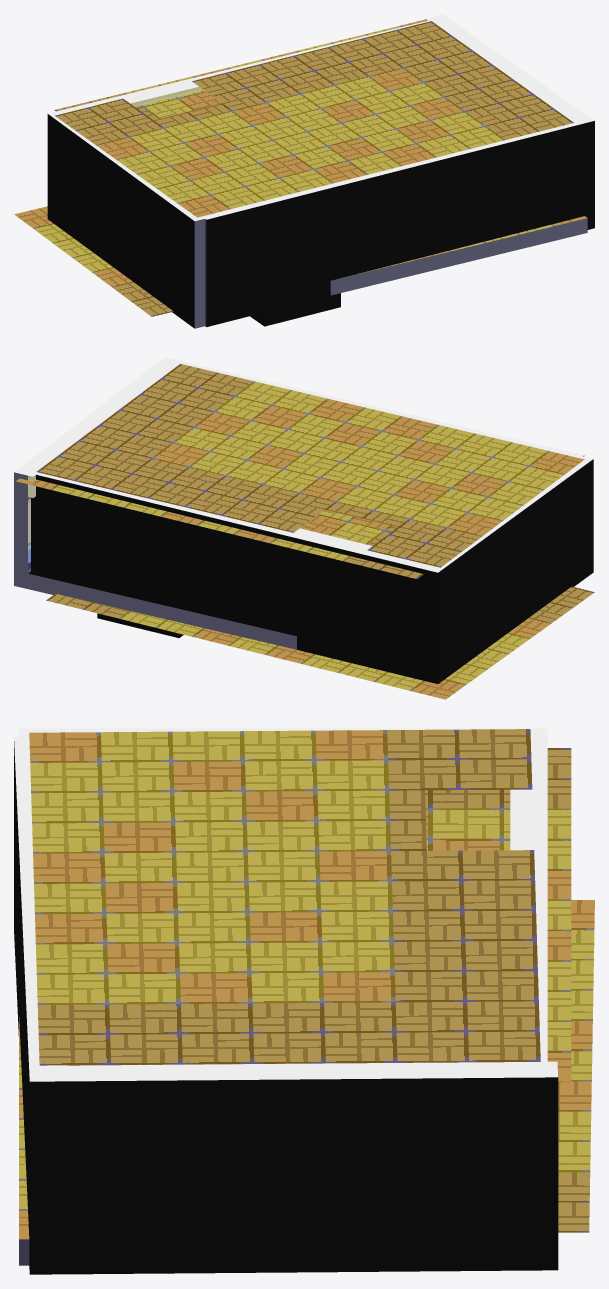
File: pokemonglb.glb
3 views of the same model, one above another, from view 1: azimuth 30°, elevation 25°; view 2: azimuth 150°, elevation 25°; view 3: azimuth 270°, elevation 25° (orthographic). The views are drawn at different scales.
Visible parts, largest first — view 1: tiles_fireRed_material_0.002, base_fireRed_material_0.002, base, tiles_fireRed_material_0.003, tiles_fireRed_material_0.001, tiles; view 2: base, tiles_fireRed_material_0.002, base_fireRed_material_0.002, tiles_fireRed_material_0.003, tiles_fireRed_material_0.001; view 3: tiles_fireRed_material_0.002, base_fireRed_material_0.002, tiles_fireRed_material_0.001, tiles_fireRed_material_0.003, base, tiles.
Part boxes in pixels (x1,y1,x2,y2): tiles_fireRed_material_0.002: [55, 21, 573, 217]; base_fireRed_material_0.002: [203, 14, 594, 327]; base: [47, 17, 587, 328]; tiles_fireRed_material_0.003: [14, 206, 173, 316]; tiles_fireRed_material_0.001: [54, 19, 424, 120]; tiles: [341, 216, 587, 278]; base: [28, 454, 593, 683]; tiles_fireRed_material_0.002: [36, 364, 584, 567]; base_fireRed_material_0.002: [14, 357, 584, 649]; tiles_fireRed_material_0.003: [46, 586, 594, 699]; tiles_fireRed_material_0.001: [16, 478, 423, 578]; tiles_fireRed_material_0.002: [29, 729, 540, 1065]; base_fireRed_material_0.002: [14, 737, 558, 1274]; tiles_fireRed_material_0.001: [70, 748, 571, 1080]; tiles_fireRed_material_0.003: [558, 900, 594, 1232]; base: [19, 728, 547, 1265]; tiles: [19, 1017, 69, 1239].
Size of the model in its own units: 12.32 by 3.55 by 8.11.
8 materials, 8 textured.
